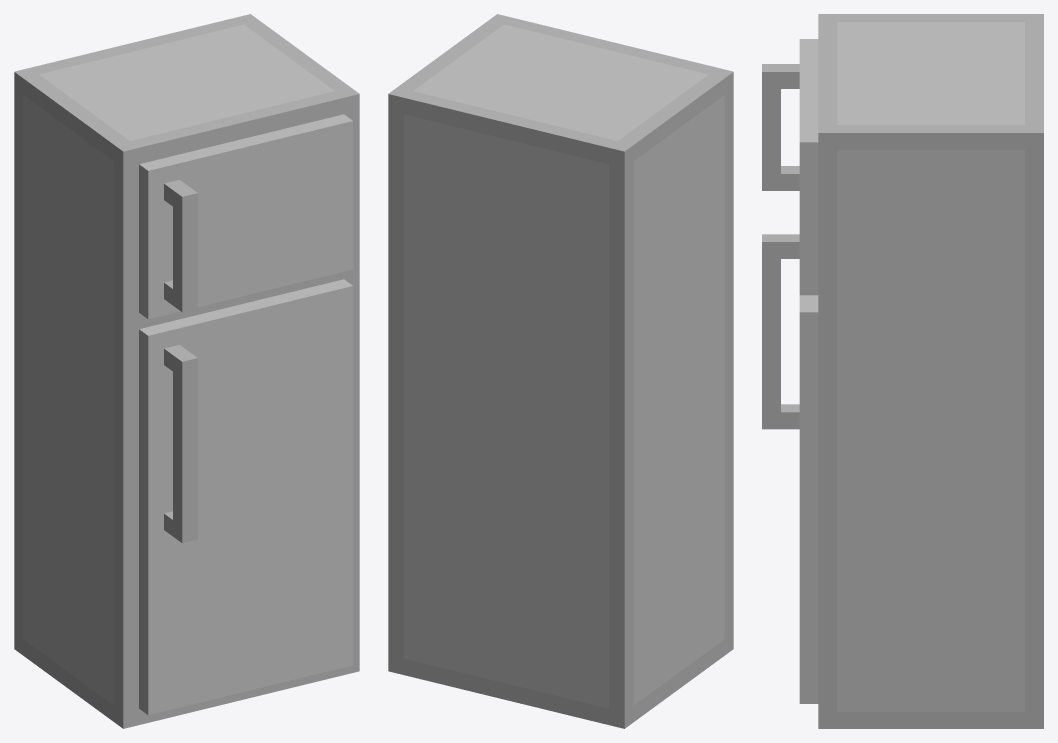
Rendered from Decor-45.obj.
The picture shows the model from 3 angles, left to right: view 1: azimuth 30°, elevation 25°; view 2: azimuth 150°, elevation 25°; view 3: azimuth 270°, elevation 25°; orthographic projection. The views are drawn at different scales.
Size of the model in its own units: 1.5 by 3.5 by 1.5.
1 material, 1 textured.
